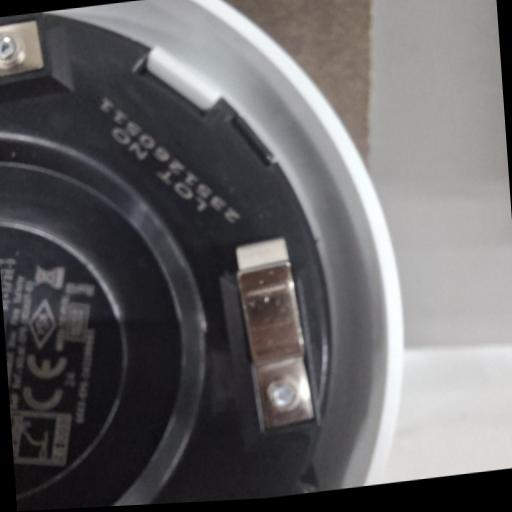yayli: (232, 231, 316, 436)
